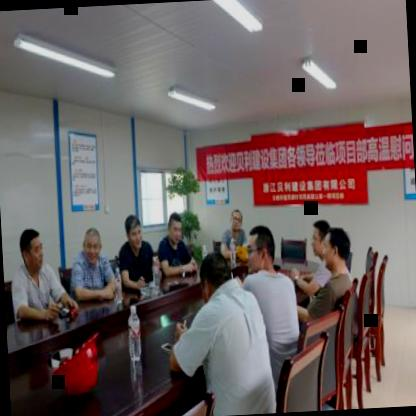head: (196, 248, 233, 302), (246, 220, 278, 275), (321, 223, 352, 277), (16, 224, 46, 274), (310, 212, 334, 263), (79, 223, 104, 266), (124, 212, 145, 254), (162, 208, 184, 247), (226, 206, 244, 232)
